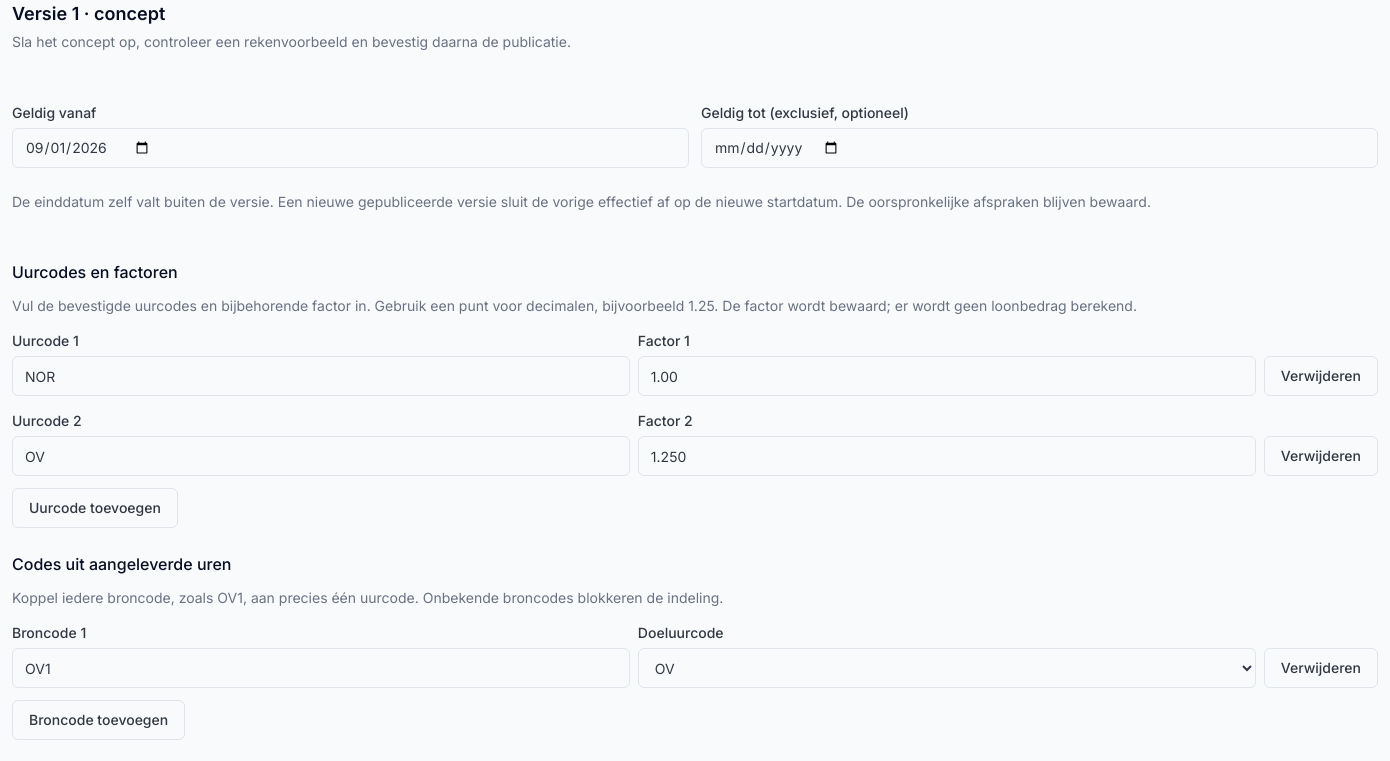
Test case: matrix editor concurrent changes › preserves typed changes after CAS rejection 40001 and only reloads after an explicit action
Later steps or results of the test are not shown.
Replace the text in the field labelled "Factor 1" with "1.3750" at (947, 376), box [638,356,1256,396]
(page scrolled)
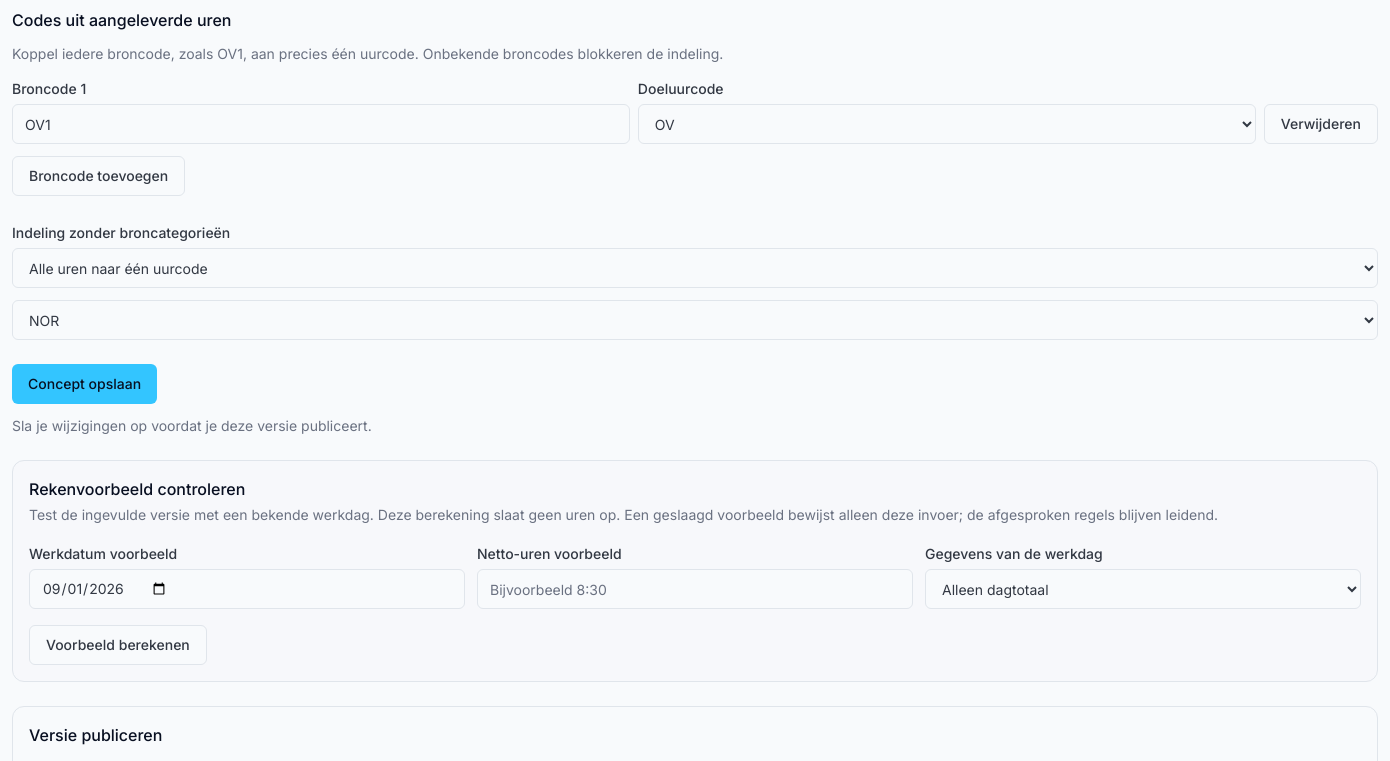
Click the button "Concept opslaan" at (85, 384), box [12,364,157,404]
(page scrolled)
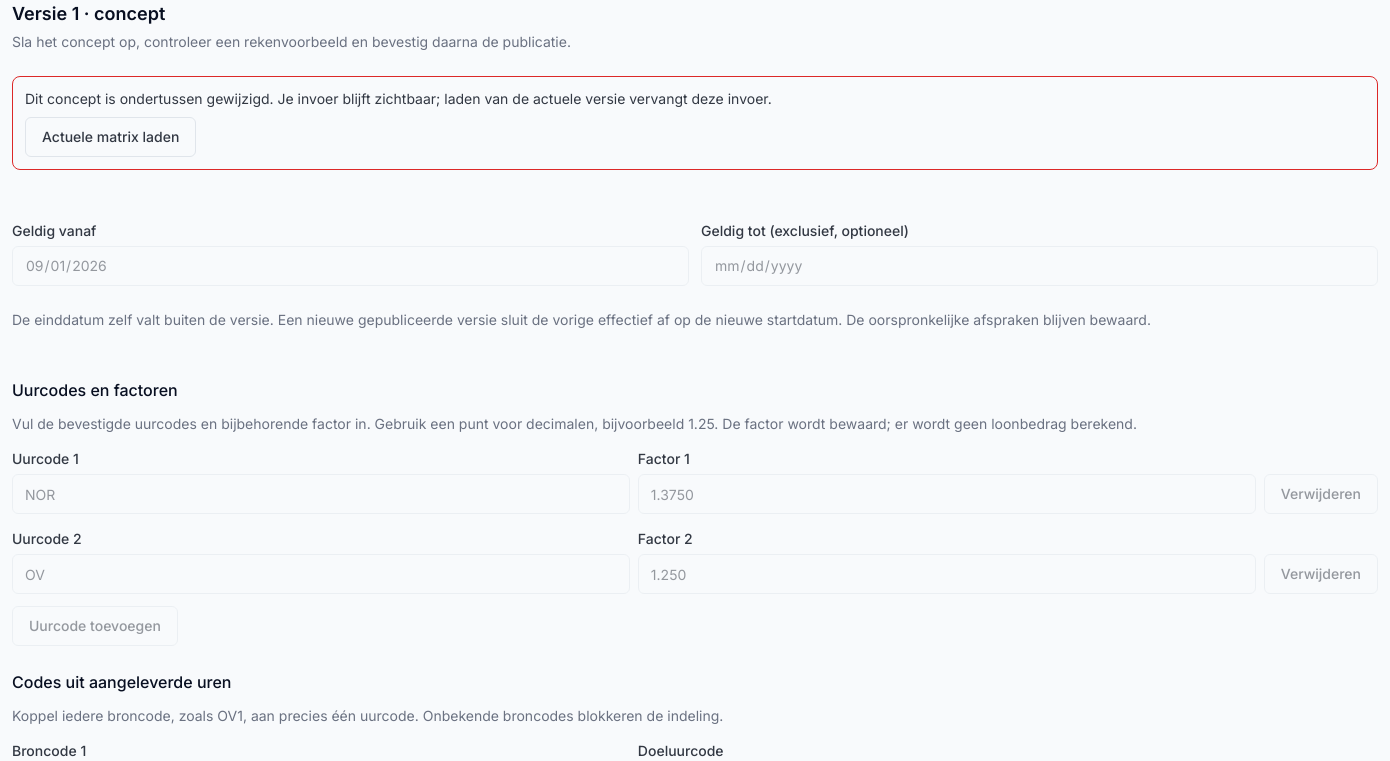
Result: the text "Je invoer blijft zichtbaar" is shown at [25,90,772,107]
